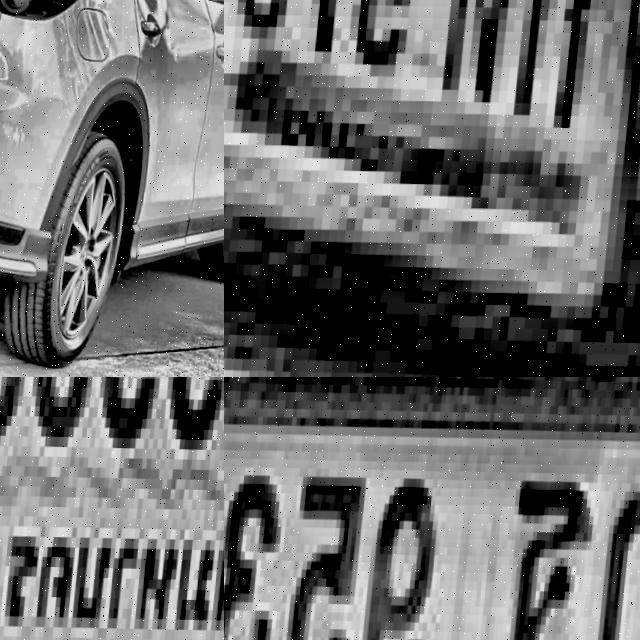license-plate: (224, 0, 640, 377), (224, 377, 640, 640), (0, 377, 224, 640)
